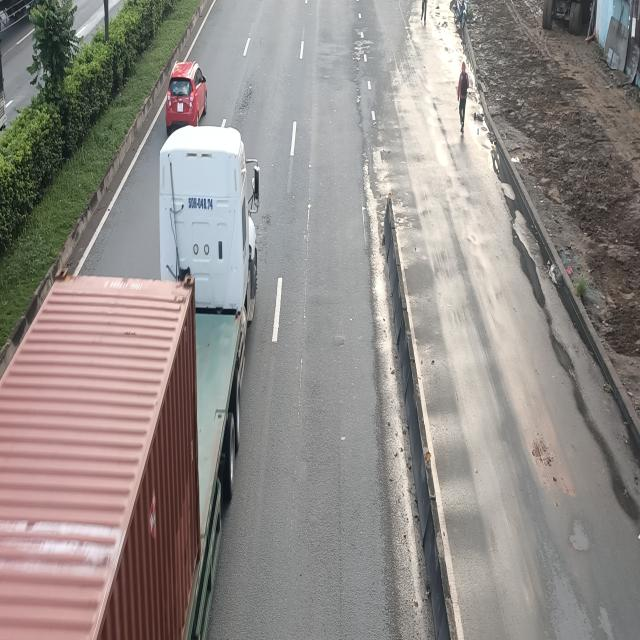car: (168, 62, 210, 131)
container: (0, 122, 265, 640)
